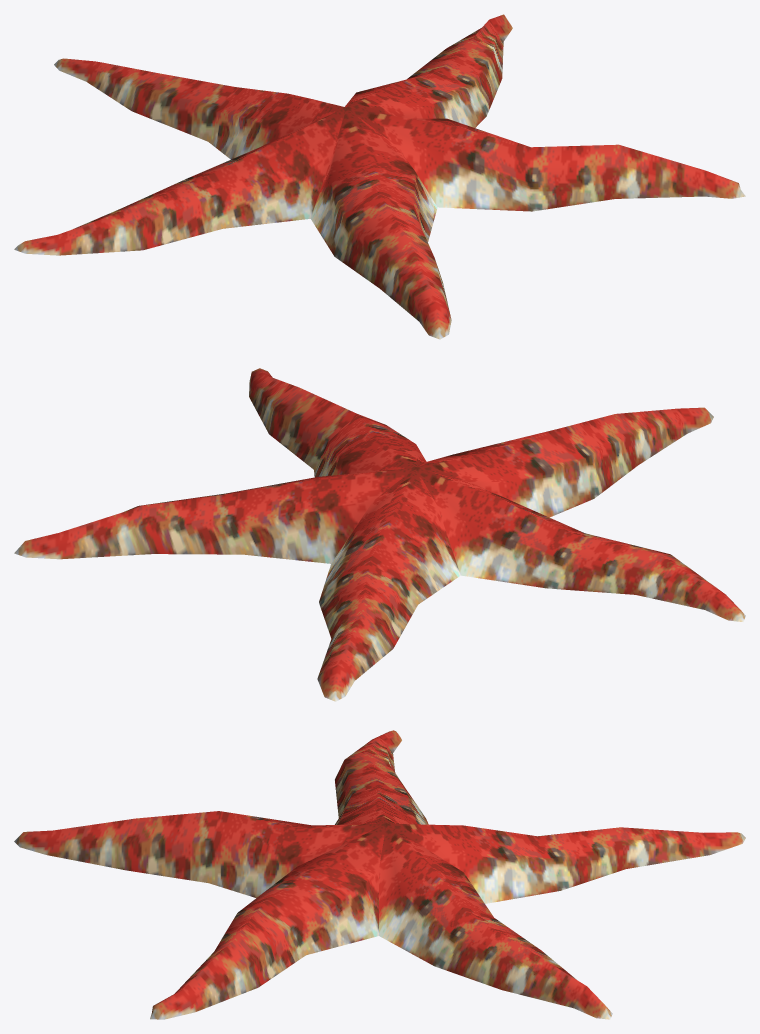
The model's file is 5010_Item_haixing_03.FBX.
The picture shows the model from 3 angles, top to bottom: view 1: azimuth 30°, elevation 25°; view 2: azimuth 150°, elevation 25°; view 3: azimuth 270°, elevation 25°; orthographic projection. The views are drawn at different scales.
Parts seen in each view (by area): view 1: 5010_Item_haixing_03; view 2: 5010_Item_haixing_03; view 3: 5010_Item_haixing_03.
Part boxes in pixels (<box>): 5010_Item_haixing_03: <box>14,14,745,339</box>; 5010_Item_haixing_03: <box>14,368,745,701</box>; 5010_Item_haixing_03: <box>14,730,745,1019</box>.
Bounding box in the file's own units: 153 × 16.17 × 166.
